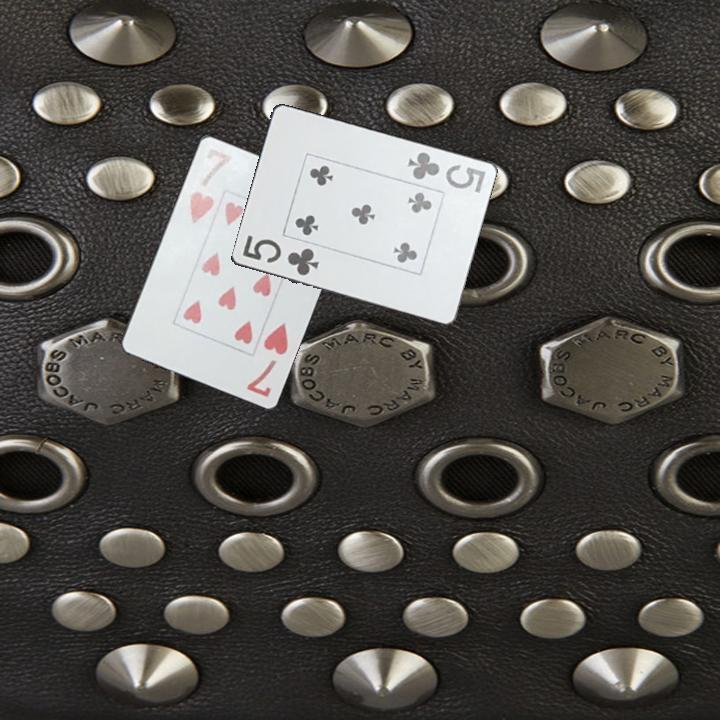5c: (403, 149, 488, 197), (238, 232, 321, 279)
7h: (186, 144, 235, 226), (243, 319, 291, 400)
